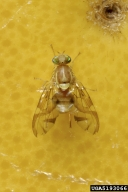Fruit fly: (28, 45, 104, 144)
